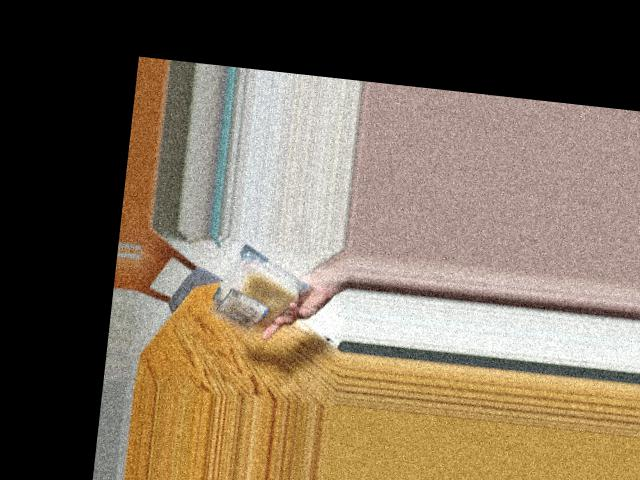cheese: (202, 252, 307, 338)
